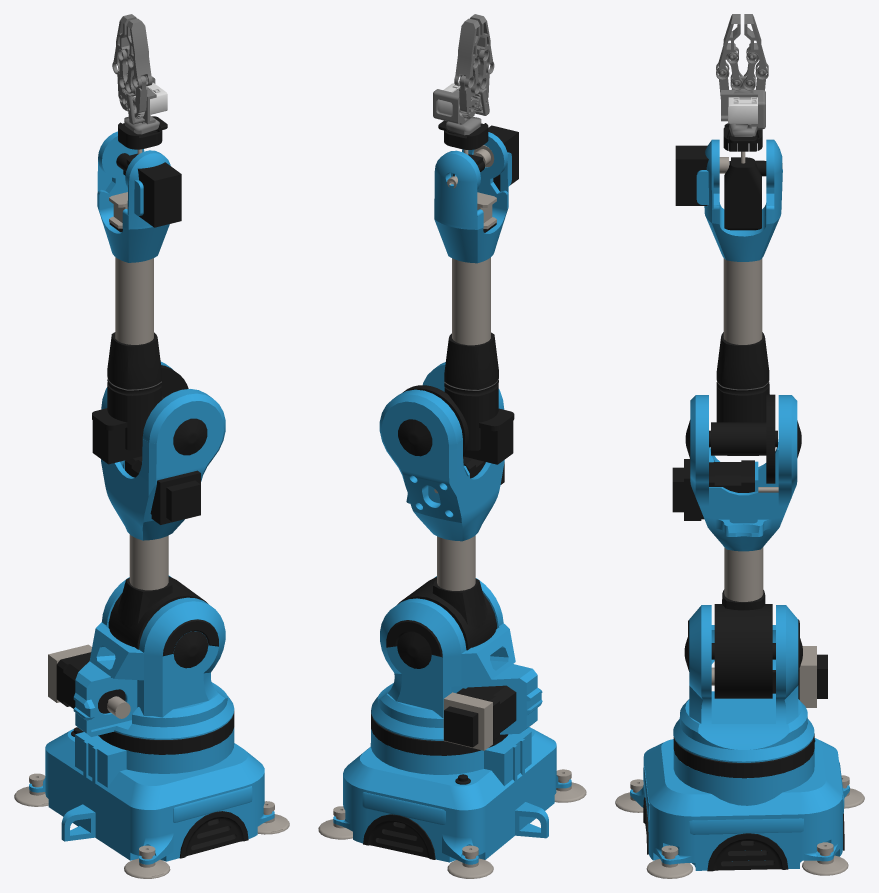
The model's file is Manipulator 3.fbx.
3 views of the same model, side by side, from view 1: azimuth 30°, elevation 25°; view 2: azimuth 150°, elevation 25°; view 3: azimuth 270°, elevation 25° (orthographic).
Visible parts, largest first — view 1: 1-Base, 2-Shoulder, 3-Arm, 5-Forearm, 4-Elbow, P2, P4, P1, G2_Clamp001, 7-Hand, G2_MainSupport, 6-Wrist (+1 smaller); view 2: 1-Base, 2-Shoulder, 3-Arm, 5-Forearm, 4-Elbow, P2, P4, P1, G2_MainSupport, G2_Clamp, 7-Hand, 6-Wrist (+1 smaller); view 3: 1-Base, 2-Shoulder, 3-Arm, 5-Forearm, P2, 4-Elbow, 6-Wrist, P4, P1, G2_MainSupport, G2_Clamp001, G2_Clamp (+2 smaller).
Part boxes in pixels (x1,y1,x2,y2): 1-Base: (14, 727, 289, 878); 2-Shoulder: (48, 575, 234, 739); 3-Arm: (101, 361, 225, 590); 5-Forearm: (97, 131, 181, 344); 4-Elbow: (92, 365, 188, 464); P2: (108, 576, 207, 649); P4: (107, 332, 161, 389); P1: (98, 711, 234, 754); G2_Clamp001: (126, 18, 152, 88); 7-Hand: (118, 116, 167, 149); G2_MainSupport: (123, 76, 159, 130); 6-Wrist: (109, 153, 137, 232); 1-Base: (318, 727, 586, 878); 2-Shoulder: (371, 576, 542, 750); 3-Arm: (379, 362, 504, 590); 5-Forearm: (434, 125, 518, 345); 4-Elbow: (402, 384, 514, 464); P2: (397, 577, 496, 650); P4: (444, 332, 498, 389); P1: (371, 710, 508, 755); G2_MainSupport: (433, 78, 489, 131); G2_Clamp: (454, 18, 480, 88); 7-Hand: (438, 120, 488, 149); 6-Wrist: (447, 154, 496, 232); 1-Base: (615, 738, 864, 878); 2-Shoulder: (673, 605, 827, 762); 3-Arm: (672, 395, 801, 601); 5-Forearm: (675, 139, 782, 344); P2: (711, 589, 775, 698); 4-Elbow: (709, 384, 777, 483); 6-Wrist: (724, 157, 782, 230); P4: (716, 332, 769, 389); P1: (673, 733, 814, 778); G2_MainSupport: (721, 76, 765, 135); G2_Clamp001: (716, 14, 740, 80); G2_Clamp: (744, 14, 768, 80).
Bounding box in the file's own units: 25.35 × 28.84 × 103.
